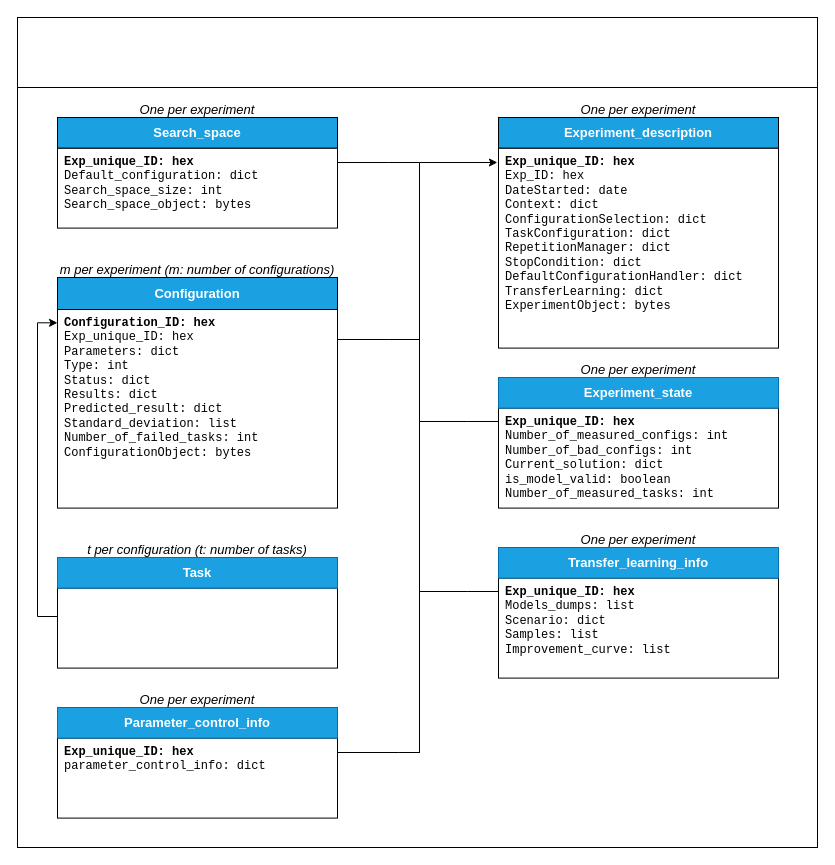
The diagram is 835 pixels wide and 865 high, and some of its shapes have lost their labels. Here are the shapes that lost their labels. From the top down, the centre of each, then its label:
(x=417, y=52): BRISE database schema
(x=197, y=627): Task_ID: hex Configuration_ID: hex Task: dict
